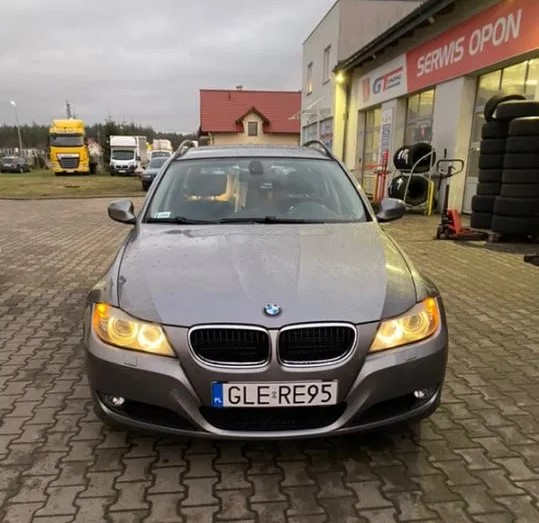number_plate: (199, 373, 350, 414)
